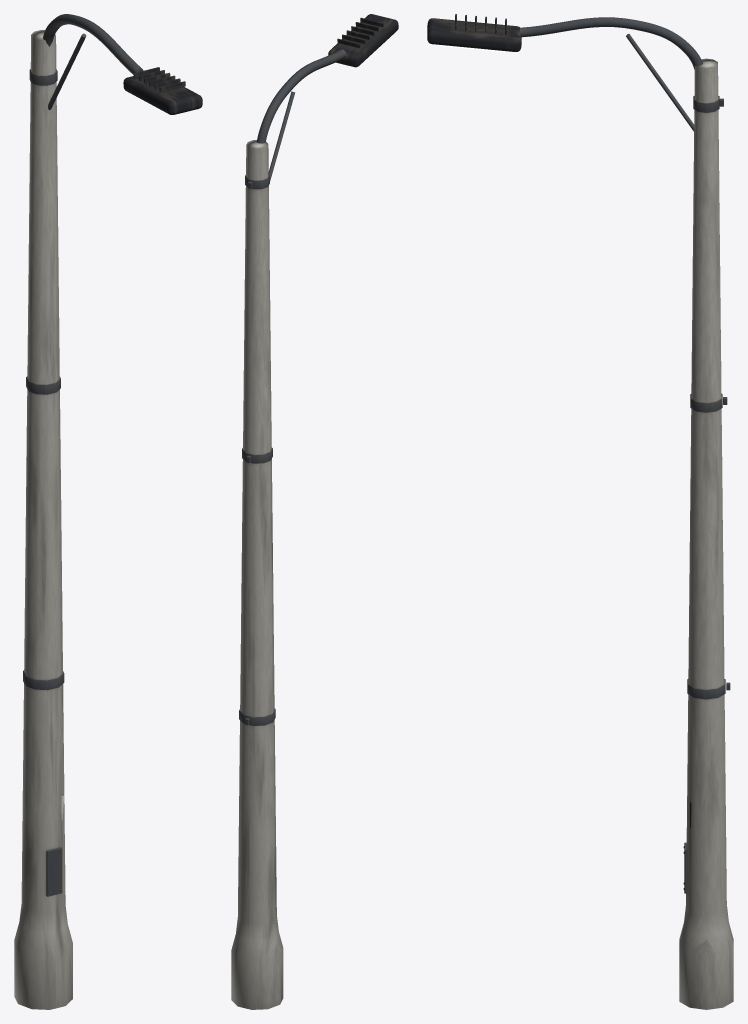
File: ul_latarnia.glb
3 views of the same model, side by side, from view 1: azimuth 30°, elevation 25°; view 2: azimuth 150°, elevation 25°; view 3: azimuth 270°, elevation 25° (orthographic). The views are drawn at different scales.
Parts seen in each view (by area): view 1: Latarnia; view 2: Latarnia; view 3: Latarnia.
Boxes of the visible parts, left/top/right/bottom form: Latarnia: left=14, top=14, right=202, bottom=1009; Latarnia: left=231, top=14, right=398, bottom=1009; Latarnia: left=427, top=14, right=733, bottom=1009.
Bounding box in the file's own units: 0.4 × 7.56 × 2.14.
2 materials, 1 textured.
